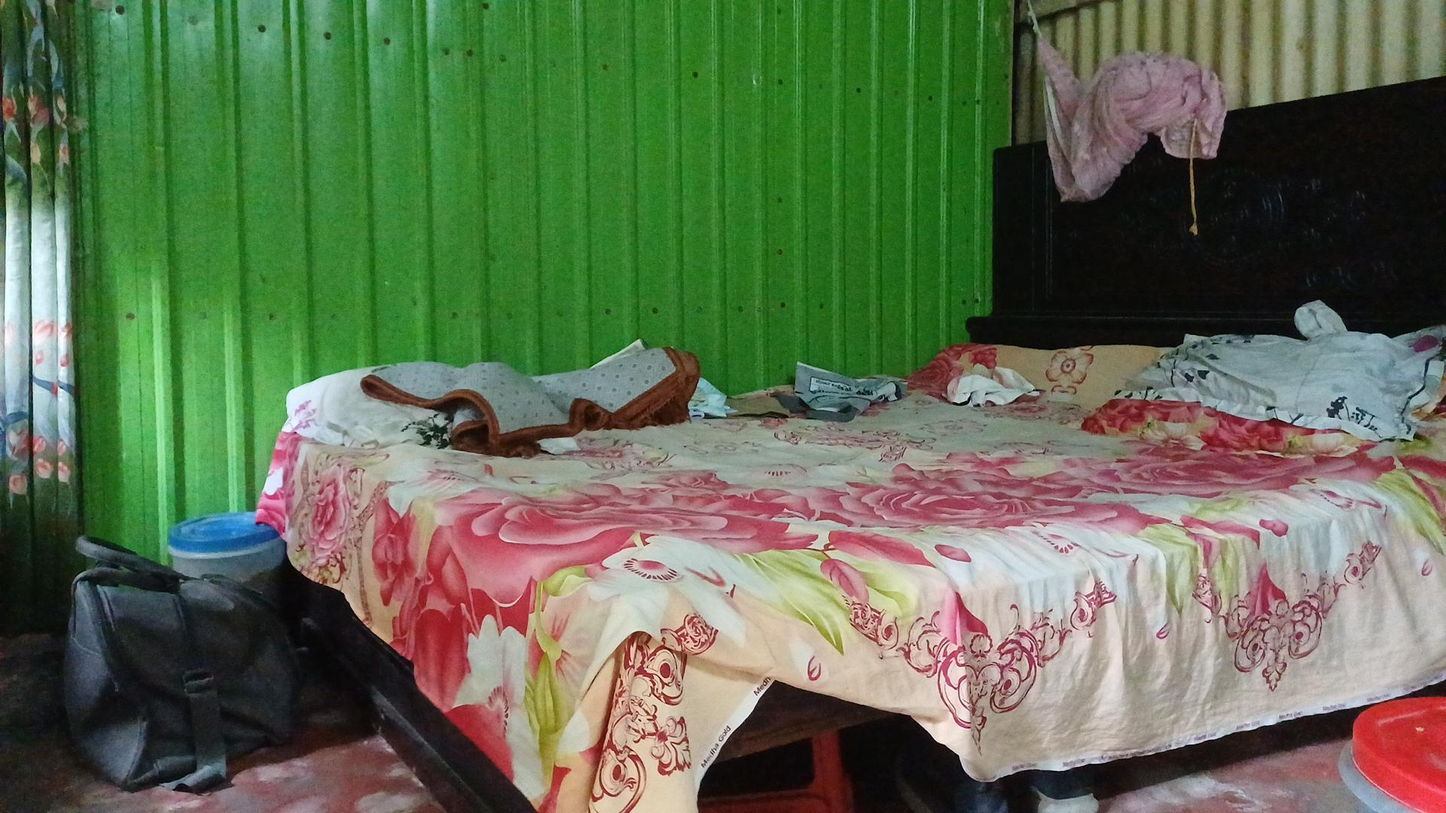Bag: (57, 530, 359, 784)
Pillow: (1132, 309, 1417, 480)
